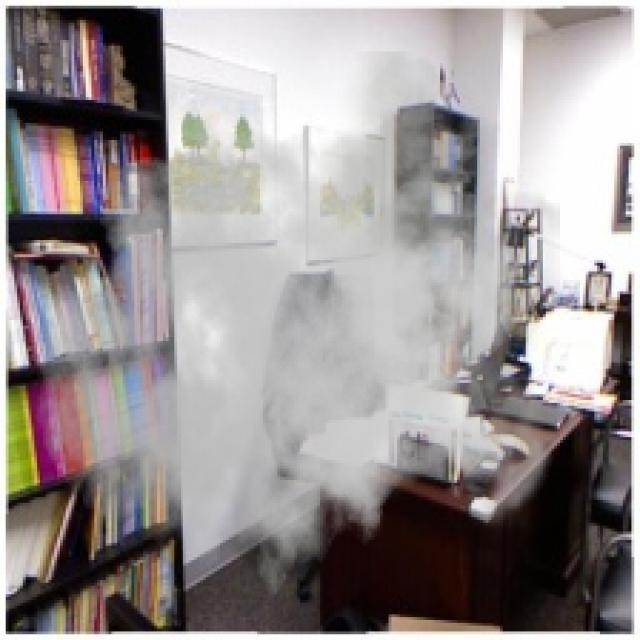smoke: (34, 51, 560, 620)
